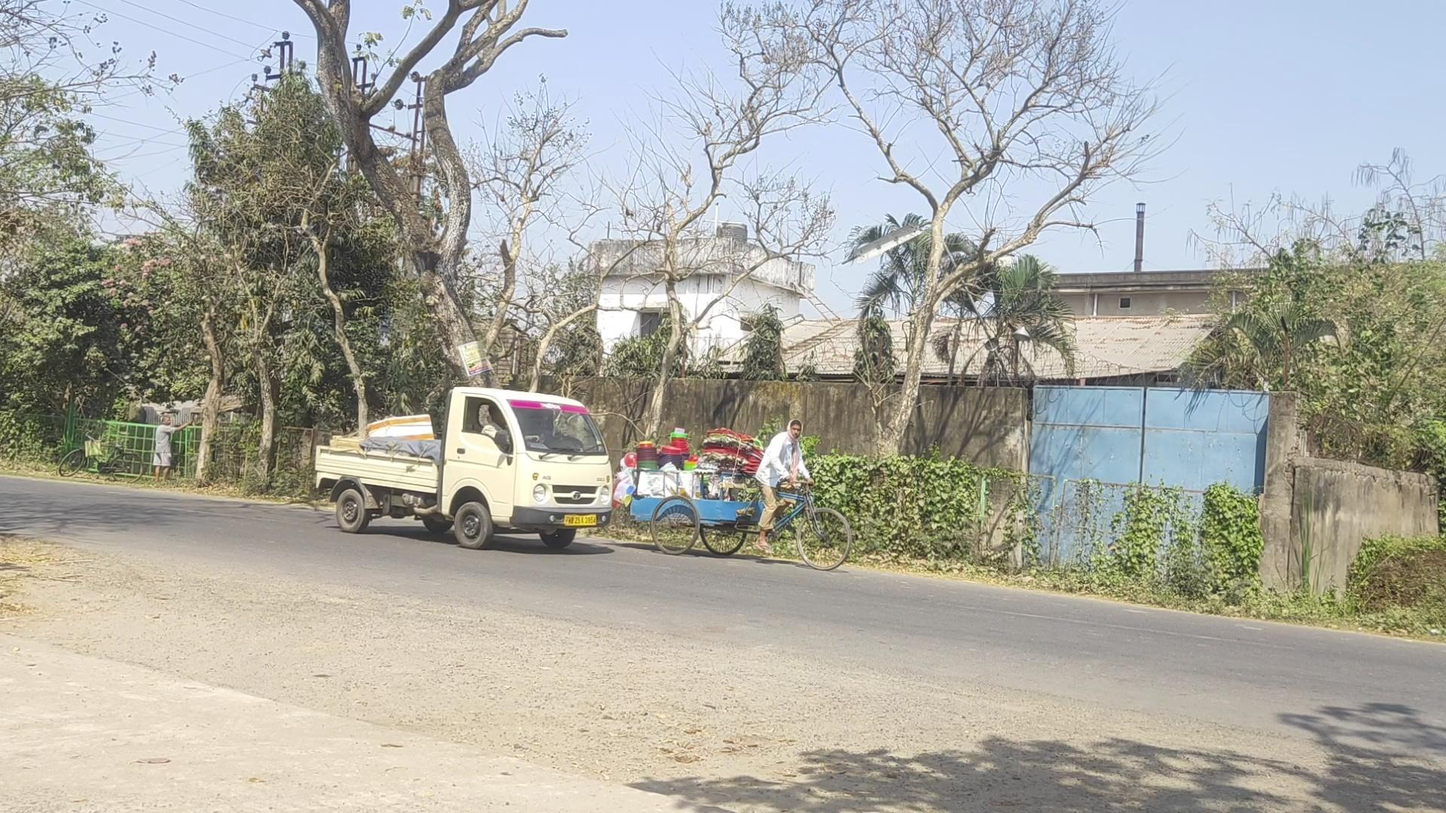bike: (59, 430, 145, 483)
van: (314, 385, 615, 550)
